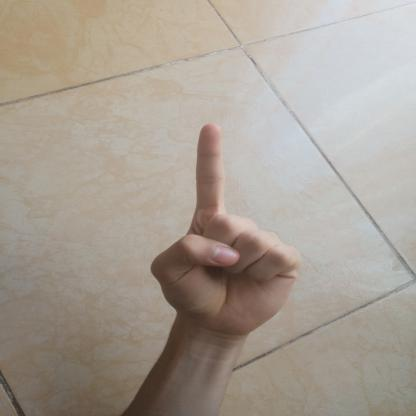BAA: (130, 111, 308, 346)
